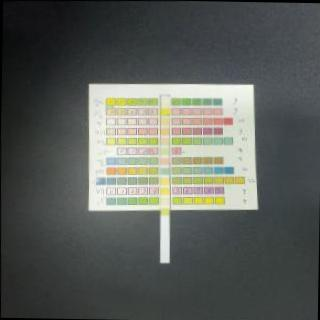mark: (160, 157, 170, 165), (161, 96, 170, 104), (160, 187, 169, 195), (160, 198, 170, 205), (162, 107, 170, 115), (160, 177, 168, 185), (161, 128, 169, 135), (160, 138, 168, 145), (160, 168, 168, 175), (160, 207, 168, 214), (161, 118, 169, 124), (160, 148, 168, 154)
